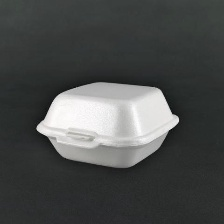foam_box: (30, 74, 184, 172)
